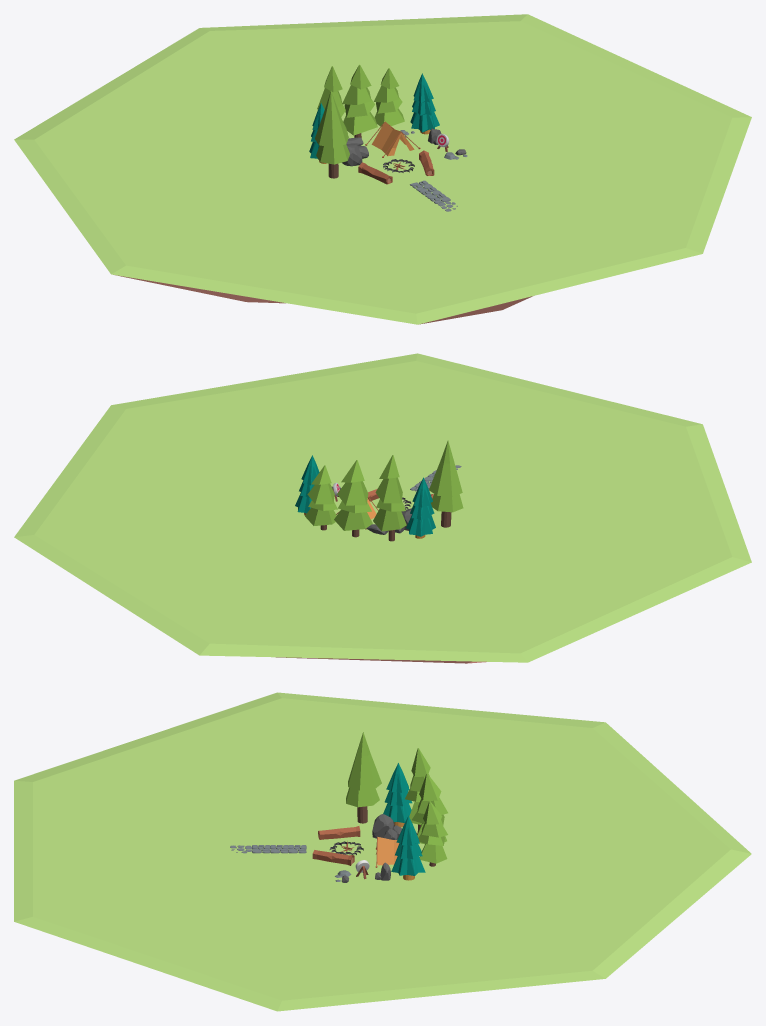
The model's file is floorWithCampsite.glb.
3 renders of one model, top to bottom at view 1: azimuth 30°, elevation 25°; view 2: azimuth 150°, elevation 25°; view 3: azimuth 270°, elevation 25°, orthographic. The views are drawn at different scales.
Parts seen in each view (by area): view 1: Island_Cylinder.014, group1145296422, group1610579876, group1610579876.001, group100681590.001, Tent_Cube.001, group1610579876.002; view 2: Island_Cylinder.014, group1610579876, group1610579876.002, group1145296422, group1610579876.001, group100681590, group100681590.001; view 3: Island_Cylinder.014, group1145296422, group100681590.001, group1610579876.001, group100681590, group1610579876, group1610579876.002, Tent_Cube.001.
Part boxes in pixels (x1,y1,x2,y2): Island_Cylinder.014: (14, 14, 751, 324); group1145296422: (315, 91, 349, 178); group1610579876: (342, 64, 377, 137); group1610579876.001: (374, 68, 404, 126); group100681590.001: (410, 73, 439, 134); Tent_Cube.001: (365, 121, 420, 157); group1610579876.002: (317, 66, 347, 133); Island_Cylinder.014: (14, 353, 751, 663); group1610579876: (334, 460, 372, 537); group1610579876.002: (373, 455, 406, 541); group1145296422: (429, 440, 463, 527); group1610579876.001: (305, 465, 337, 530); group100681590: (406, 477, 435, 538); group100681590.001: (295, 455, 319, 515); Island_Cylinder.014: (14, 692, 751, 1011); group1145296422: (346, 732, 381, 823); group100681590.001: (391, 816, 425, 880); group1610579876.001: (418, 801, 447, 866); group100681590: (383, 763, 412, 827); group1610579876: (412, 773, 447, 844); group1610579876.002: (405, 748, 430, 832); Tent_Cube.001: (375, 836, 399, 867).
Size of the model in its own units: 29.58 by 6.77 by 28.83.
36 materials, 4 textured.
